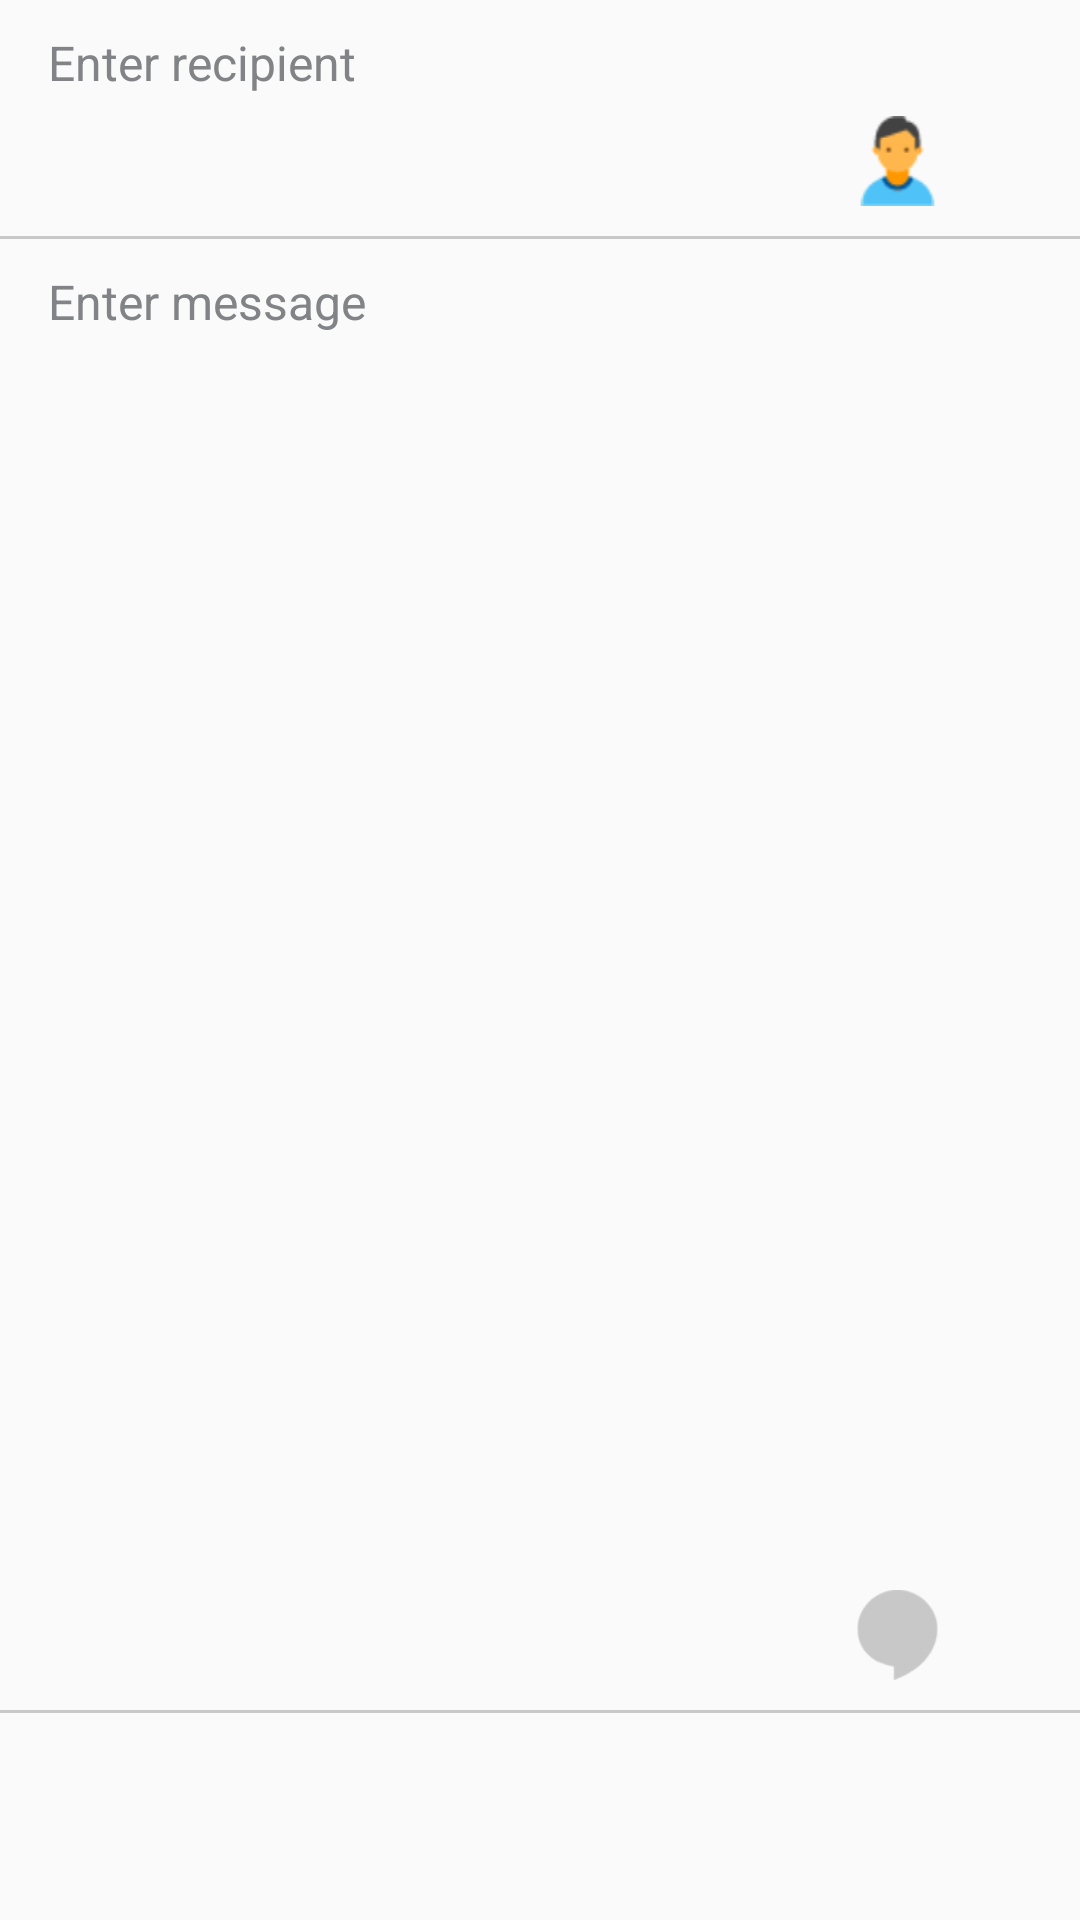

Where to tap for icons on this 1080*1920 app screen, as point (x, y):
pick contact: point (897, 161)
